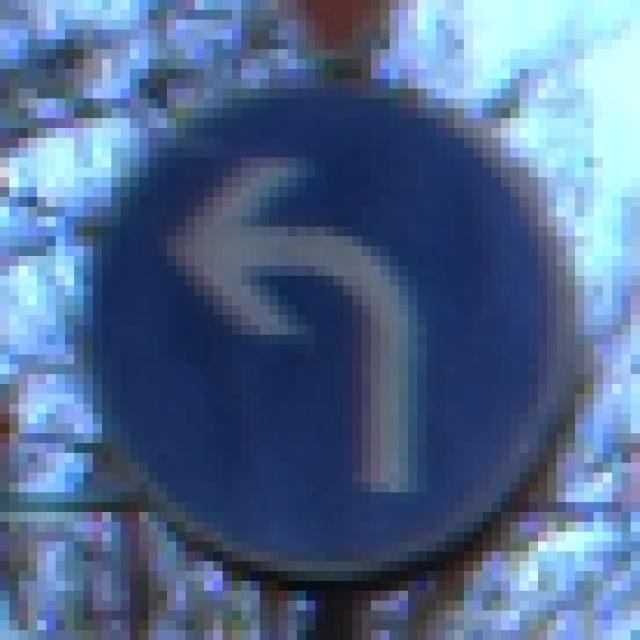compulsary turn left ahead: (65, 72, 591, 574)
